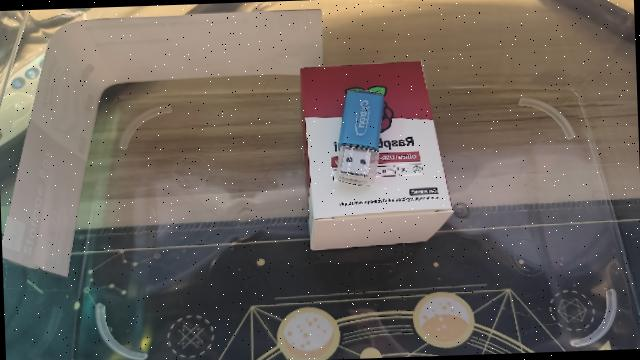charger_box: (298, 58, 456, 253)
sdcard_reader: (330, 84, 393, 188)
